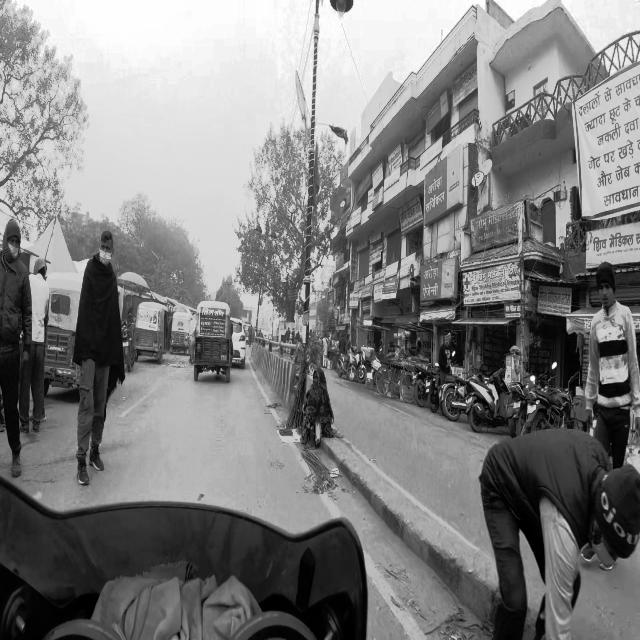Auto-Rickshaw: (195, 298, 232, 384), (135, 300, 169, 363), (170, 309, 193, 356)
Car: (229, 313, 248, 371)
